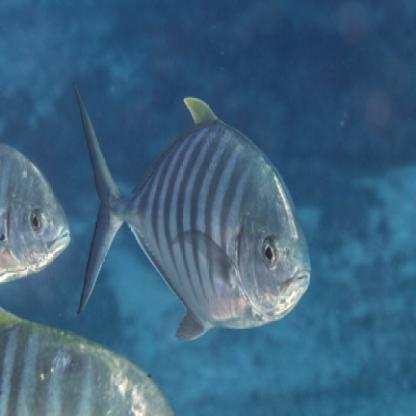jack: (66, 73, 314, 353)
